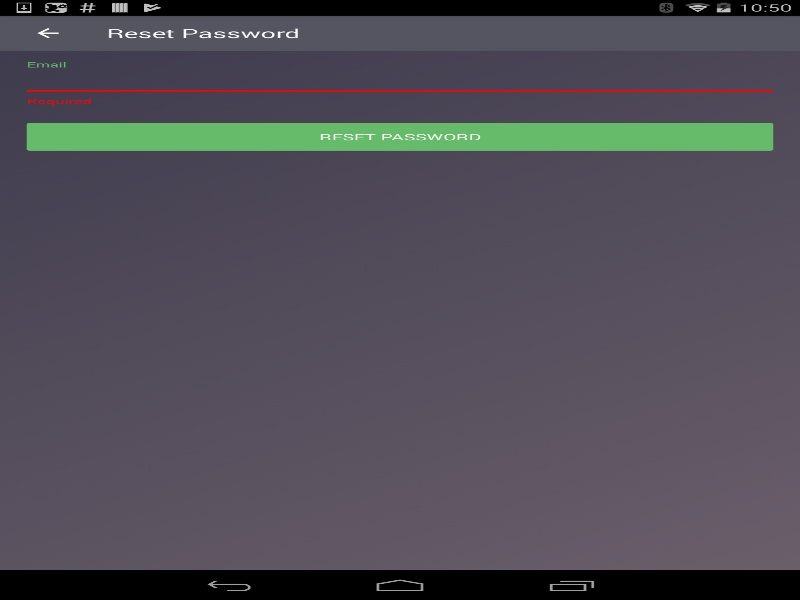Button: (21, 119, 778, 154), (10, 15, 85, 50)
Input: (21, 67, 778, 95)
